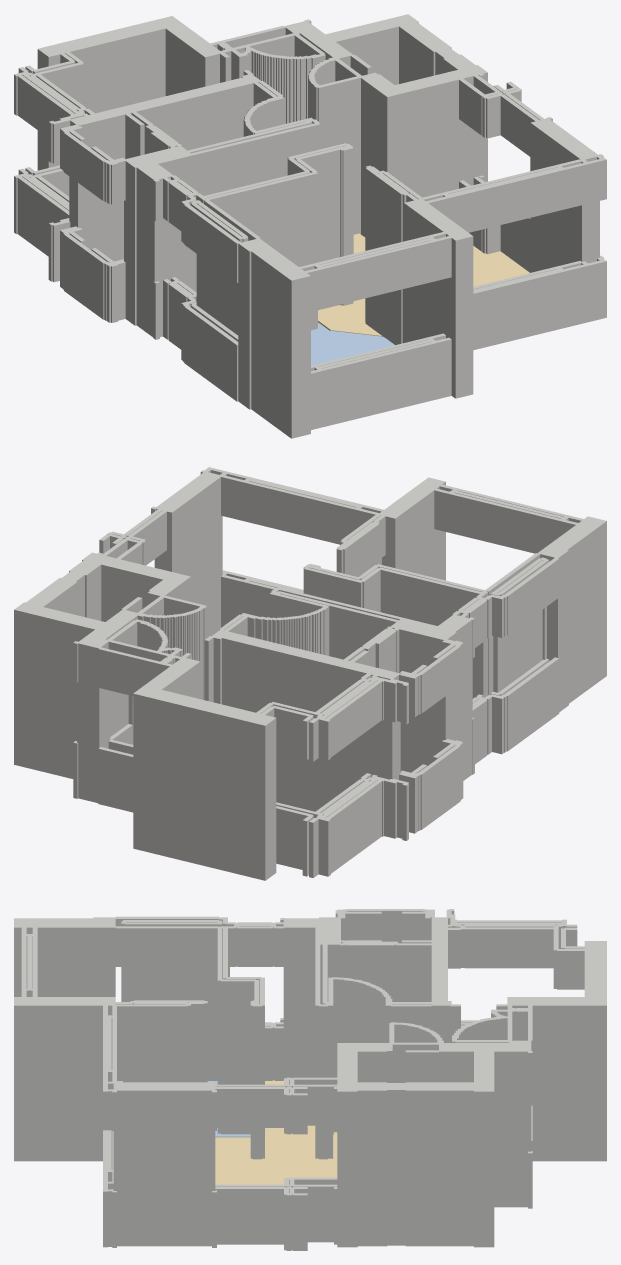
3 views of the same model, one above another, from view 1: azimuth 30°, elevation 25°; view 2: azimuth 150°, elevation 25°; view 3: azimuth 270°, elevation 25° (orthographic).
Visible parts, largest first — view 1: walls, room:living:0, room:bedroom:1; view 2: walls; view 3: walls, room:living:0.
Boxes of the visible parts, box(x1,y1,x2,y2) form: walls: box(14, 14, 606, 438); room:living:0: box(318, 233, 529, 336); room:bedroom:1: box(311, 322, 394, 365); walls: box(14, 467, 606, 880); walls: box(14, 909, 606, 1250); room:living:0: box(215, 1080, 337, 1184).
Bounding box in the file's own units: 7.19 × 2.8 × 9.67.
